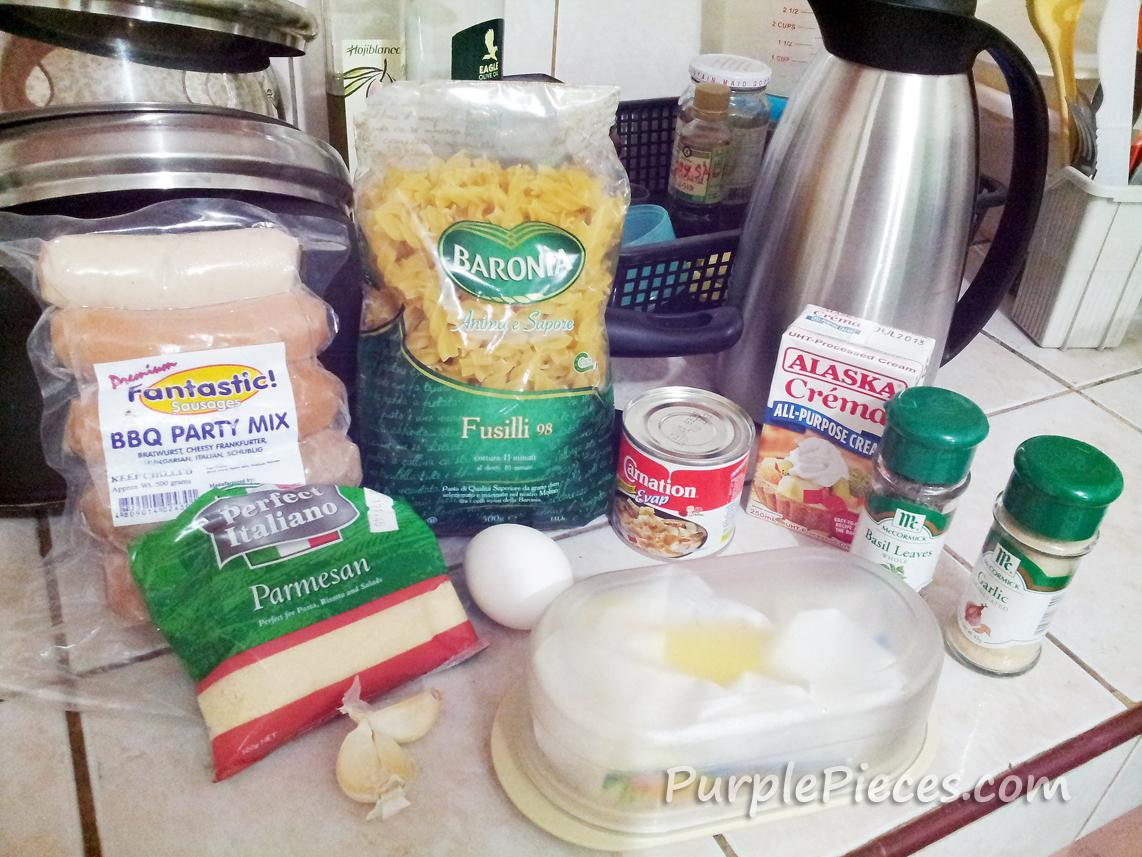pasta: (356, 82, 628, 532), (359, 153, 624, 391), (615, 496, 706, 558)
